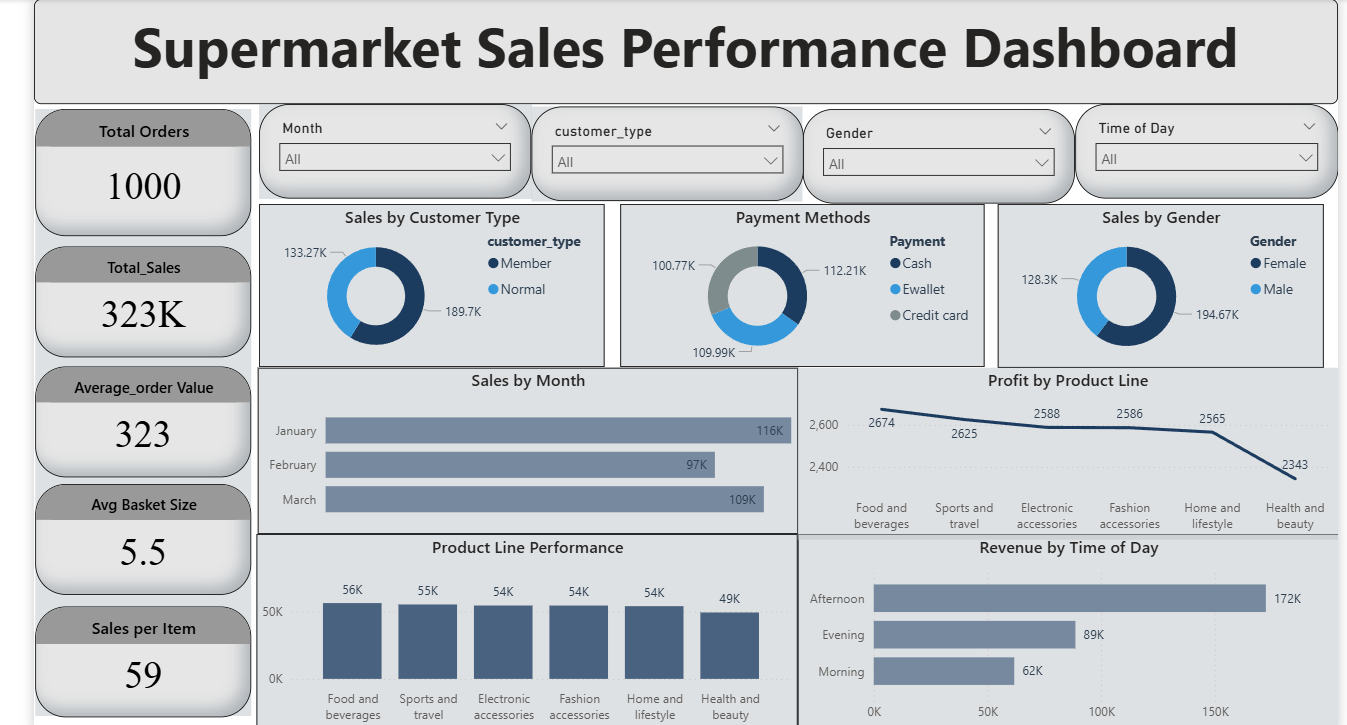

This screenshot's page, from the dashboard's own definition file:
{"tool":"powerbi","page":{"name":"Page 1","canvas":[1280,720],"ordinal":0},"visuals":[{"type":"slicer","fields":{"Values":["sales.Month"]},"box":[221,102.9,266.9,93.1],"z":0,"group":"g2"},{"type":"slicer","fields":{"Values":["sales.customer_type"]},"box":[487.9,105.6,266.9,93.1],"z":0,"group":"g3"},{"type":"slicer","fields":{"Values":["sales.Gender"]},"box":[754.8,108.4,266.9,93.1],"z":0},{"type":"card","title":"Total Orders","fields":{"Values":["CountNonNull(sales.invoice_id)"]},"box":[0,125.2,211.7,108.4],"z":0,"group":"g1"},{"type":"textbox","box":[0,0,1279.8,103.1],"z":1000},{"type":"group","id":"g1","title":"Group 3","box":[0,125.2,211,579.1],"z":2000},{"type":"clusteredBarChart","title":"Sales by Month","fields":{"Category":["sales.Date.Variation.Date Hierarchy.Month"],"Y":["Sum(sales.Sales)"]},"box":[219.6,362,530.1,163.2],"z":3000},{"type":"barChart","title":"Revenue by Time of Day","fields":{"Category":["sales.Time of Day"],"Y":["Sum(sales.Sales)"]},"box":[749.3,525.4,531,194.4],"z":4000},{"type":"donutChart","title":"Sales by Customer Type","fields":{"Y":["Sum(sales.Sales)"],"Category":["sales.customer_type"]},"box":[221,201.6,339.2,159.9],"z":5000},{"type":"donutChart","title":"Payment Methods","fields":{"Y":["Sum(sales.Sales)"],"Category":["sales.Payment"]},"box":[575.5,201.6,357.3,159.9],"z":6000},{"type":"card","title":"Total_Sales","fields":{"Values":["Sum(sales.Sales)"]},"box":[0,243.6,211.7,108.4],"z":6000,"group":"g1"},{"type":"card","title":"Avg Basket Size","fields":{"Values":["sales.Avg Basket Size"]},"box":[0,476.2,211.7,108.4],"z":7000,"group":"g1"},{"type":"clusteredColumnChart","title":"Product Line Performance","fields":{"Category":["sales.product_line"],"Y":["Sum(sales.Sales)"]},"box":[218.2,525.5,531,194.6],"z":7000},{"type":"donutChart","title":"Sales by Gender","fields":{"Y":["Sum(sales.Sales)"],"Category":["sales.Gender"]},"box":[946.5,201.4,319.7,160.6],"z":8000},{"type":"card","title":"Sales per Item","fields":{"Values":["sales.Sales per Item"]},"box":[0,596,211.7,108.4],"z":8000,"group":"g1"},{"type":"group","id":"g2","title":"Group 1","box":[221,102.9,266.9,93.1],"z":9000},{"type":"card","title":"Average_order Value","fields":{"Values":["Avg(sales.Sales)"]},"box":[0,360.6,211.7,108.4],"z":9000,"group":"g1"},{"type":"group","id":"g3","title":"Group 1","box":[487.9,105.6,266.9,93.1],"z":10000},{"type":"slicer","fields":{"Values":["sales.Time of Day"]},"box":[1021.7,102.9,258.6,93.1],"z":11000},{"type":"lineChart","title":"Profit by Product Line","fields":{"Y":["Sum(sales.gross_income)"],"Category":["sales.product_line"]},"box":[749.3,362,531,169],"z":12000}]}

Visuals, with their boxes in screenshot pixels (x1, y1, x2, y2):
slicer - sales.Month: region(256, 99, 531, 195)
slicer - sales.customer_type: region(531, 102, 806, 198)
slicer - sales.Gender: region(806, 105, 1082, 201)
"Total Orders" card: region(28, 122, 246, 234)
textbox: region(28, 0, 1346, 99)
"Group 3" group: region(28, 122, 246, 719)
"Sales by Month" clusteredBarChart: region(254, 366, 801, 535)
"Revenue by Time of Day" barChart: region(801, 535, 1346, 724)
"Sales by Customer Type" donutChart: region(256, 201, 606, 366)
"Payment Methods" donutChart: region(621, 201, 990, 366)
"Total_Sales" card: region(28, 244, 246, 356)
"Avg Basket Size" card: region(28, 484, 246, 596)
"Product Line Performance" clusteredColumnChart: region(253, 535, 801, 724)
"Sales by Gender" donutChart: region(1004, 201, 1334, 366)
"Sales per Item" card: region(28, 608, 246, 719)
"Group 1" group: region(256, 99, 531, 195)
"Average_order Value" card: region(28, 365, 246, 477)
"Group 1" group: region(531, 102, 806, 198)
slicer - sales.Time of Day: region(1082, 99, 1346, 195)
"Profit by Product Line" lineChart: region(801, 366, 1346, 540)
